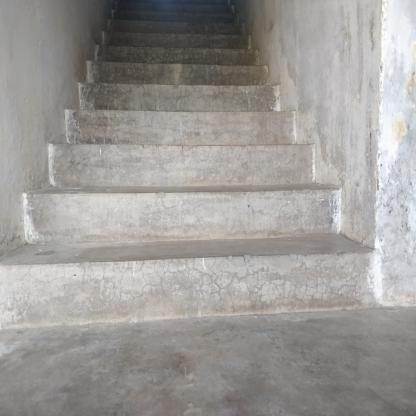stairs: (38, 112, 298, 327)
